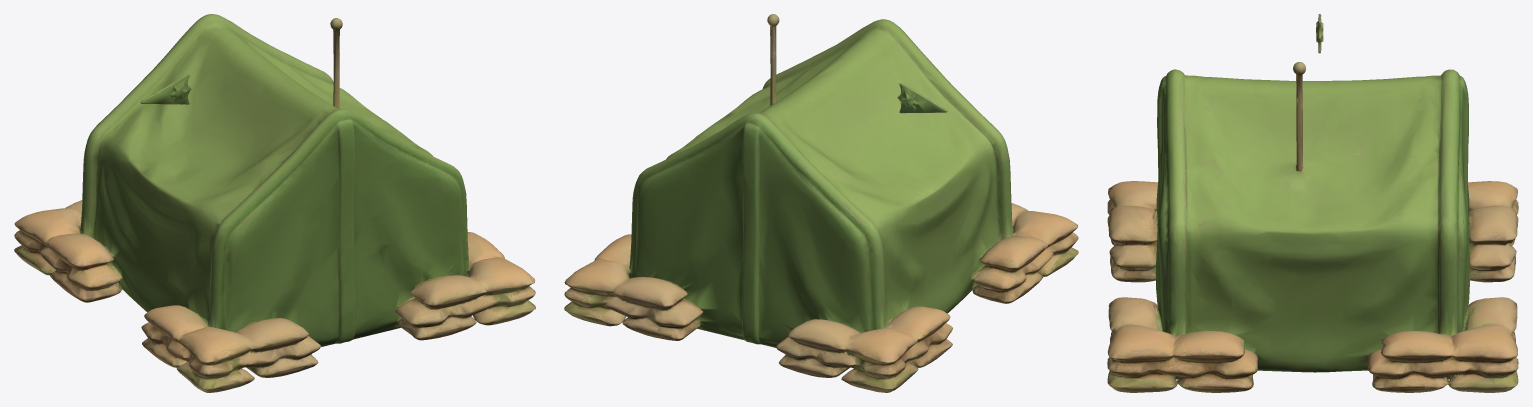
Rendered from house-classic.glb.
3 views of the same model, side by side, from view 1: azimuth 30°, elevation 25°; view 2: azimuth 150°, elevation 25°; view 3: azimuth 270°, elevation 25° (orthographic). The views are drawn at different scales.
Visible parts, largest first — view 1: Mesh_0; view 2: Mesh_0; view 3: Mesh_0.
Boxes of the visible parts, bbox=[...] form: Mesh_0: bbox=[14, 14, 535, 392]; Mesh_0: bbox=[564, 14, 1078, 392]; Mesh_0: bbox=[1107, 14, 1518, 392].
Size of the model in its own units: 1.91 by 1.46 by 1.91.
Materials: 1 (1 with a texture image).
